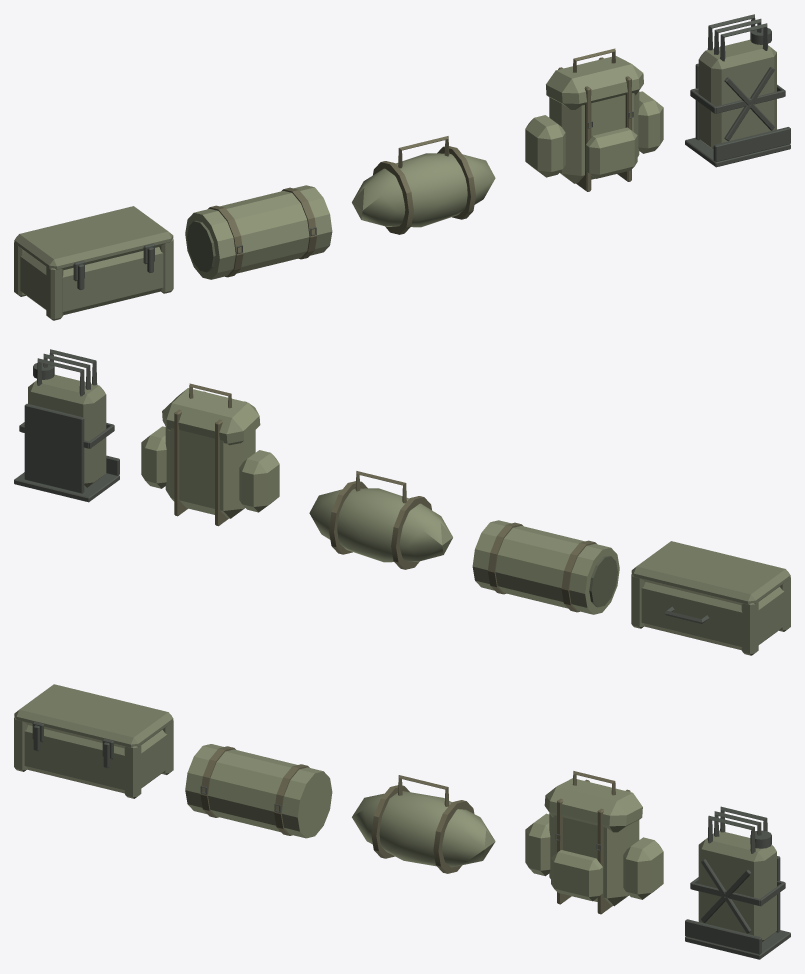
File: vehicle_greebles.glb
3 renders of one model, top to bottom at view 1: azimuth 30°, elevation 25°; view 2: azimuth 150°, elevation 25°; view 3: azimuth 330°, elevation 25°, orthographic.
Parts seen in each view (by area): view 1: Greeble_TransitCase_Case_Dark_Olive, Greeble_FieldRucksack_Canvas_Olive, Greeble_RolledTarp_Canvas_Olive, Greeble_Duffel_Canvas_Olive, Greeble_JerryCan_Case_Dark_Olive, Greeble_JerryCan_Hardware_Blackened_Steel, Greeble_Duffel_Webbing, Greeble_FieldRucksack_Webbing, Greeble_RolledTarp_Webbing, Greeble_RolledTarp_Canvas_Shadow, Greeble_TransitCase_Hardware_Blackened_Steel; view 2: Greeble_TransitCase_Case_Dark_Olive, Greeble_FieldRucksack_Canvas_Olive, Greeble_RolledTarp_Canvas_Olive, Greeble_JerryCan_Hardware_Blackened_Steel, Greeble_Duffel_Canvas_Olive, Greeble_JerryCan_Case_Dark_Olive, Greeble_Duffel_Webbing, Greeble_FieldRucksack_Webbing, Greeble_RolledTarp_Webbing, Greeble_RolledTarp_Canvas_Shadow; view 3: Greeble_TransitCase_Case_Dark_Olive, Greeble_FieldRucksack_Canvas_Olive, Greeble_RolledTarp_Canvas_Olive, Greeble_Duffel_Canvas_Olive, Greeble_JerryCan_Case_Dark_Olive, Greeble_JerryCan_Hardware_Blackened_Steel, Greeble_Duffel_Webbing, Greeble_FieldRucksack_Webbing, Greeble_RolledTarp_Webbing, Greeble_TransitCase_Hardware_Blackened_Steel.
Part boxes in pixels (box(x1,y1,x2,y2)): Greeble_TransitCase_Case_Dark_Olive: box(14, 206, 173, 320); Greeble_FieldRucksack_Canvas_Olive: box(525, 56, 663, 183); Greeble_RolledTarp_Canvas_Olive: box(185, 185, 332, 279); Greeble_Duffel_Canvas_Olive: box(352, 153, 495, 227); Greeble_JerryCan_Case_Dark_Olive: box(698, 39, 776, 149); Greeble_JerryCan_Hardware_Blackened_Steel: box(685, 14, 790, 167); Greeble_Duffel_Webbing: box(373, 136, 475, 234); Greeble_FieldRucksack_Webbing: box(558, 48, 631, 191); Greeble_RolledTarp_Webbing: box(208, 187, 316, 277); Greeble_RolledTarp_Canvas_Shadow: box(187, 220, 215, 272); Greeble_TransitCase_Hardware_Blackened_Steel: box(73, 243, 154, 289); Greeble_TransitCase_Case_Dark_Olive: box(631, 541, 790, 655); Greeble_FieldRucksack_Canvas_Olive: box(141, 388, 279, 518); Greeble_RolledTarp_Canvas_Olive: box(472, 520, 619, 614); Greeble_JerryCan_Hardware_Blackened_Steel: box(14, 349, 119, 502); Greeble_Duffel_Canvas_Olive: box(309, 488, 452, 562); Greeble_JerryCan_Case_Dark_Olive: box(28, 374, 106, 487); Greeble_Duffel_Webbing: box(329, 471, 431, 569); Greeble_FieldRucksack_Webbing: box(174, 383, 246, 526); Greeble_RolledTarp_Webbing: box(488, 522, 596, 612); Greeble_RolledTarp_Canvas_Shadow: box(589, 555, 617, 607); Greeble_TransitCase_Case_Dark_Olive: box(14, 684, 173, 798); Greeble_FieldRucksack_Canvas_Olive: box(525, 778, 663, 906); Greeble_RolledTarp_Canvas_Olive: box(185, 744, 332, 838); Greeble_Duffel_Canvas_Olive: box(352, 791, 495, 867); Greeble_JerryCan_Case_Dark_Olive: box(698, 830, 776, 941); Greeble_JerryCan_Hardware_Blackened_Steel: box(685, 806, 790, 959); Greeble_Duffel_Webbing: box(371, 775, 474, 873); Greeble_FieldRucksack_Webbing: box(557, 771, 630, 914); Greeble_RolledTarp_Webbing: box(200, 746, 309, 835); Greeble_TransitCase_Hardware_Blackened_Steel: box(32, 721, 113, 768).
Size of the model in its own units: 3.84 by 0.6405 by 0.4555.
